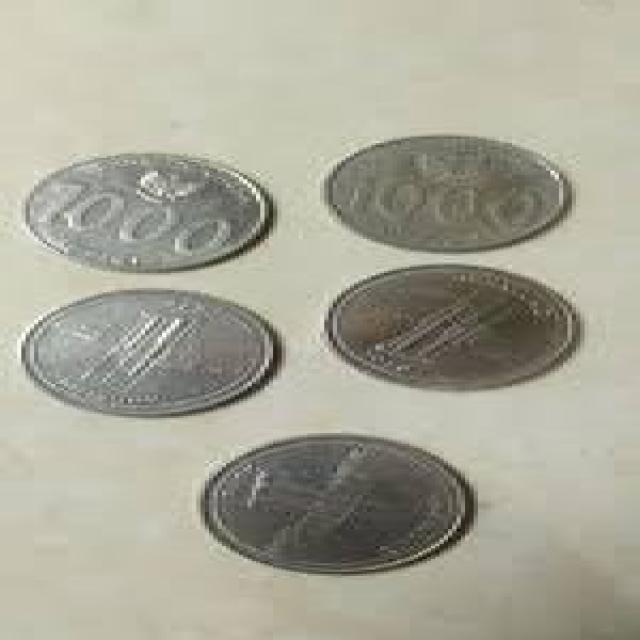coin_1000_e2010: (189, 430, 479, 583), (305, 262, 596, 402), (21, 284, 282, 420), (319, 129, 571, 258), (18, 148, 275, 263)
